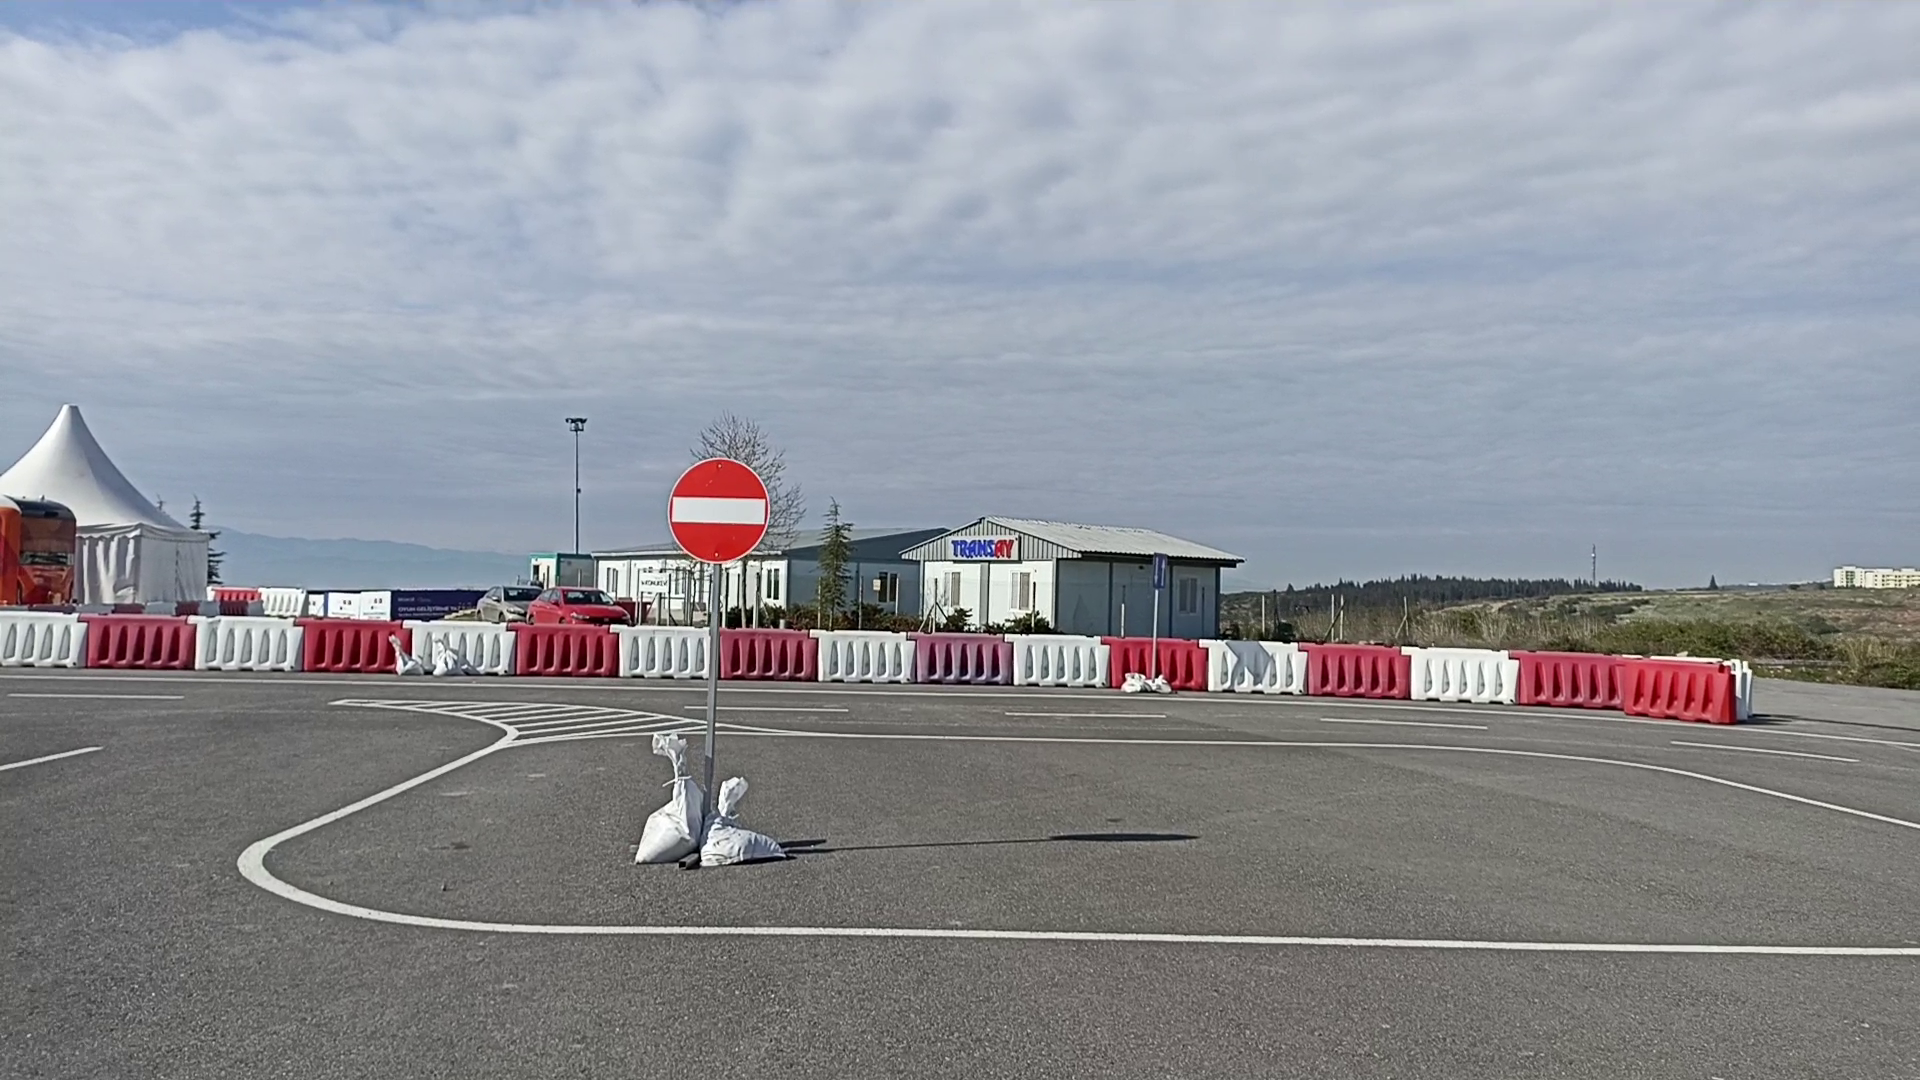noentryway: (665, 454, 773, 567)
